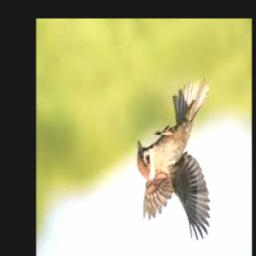Sparrow: (136, 77, 210, 241)
